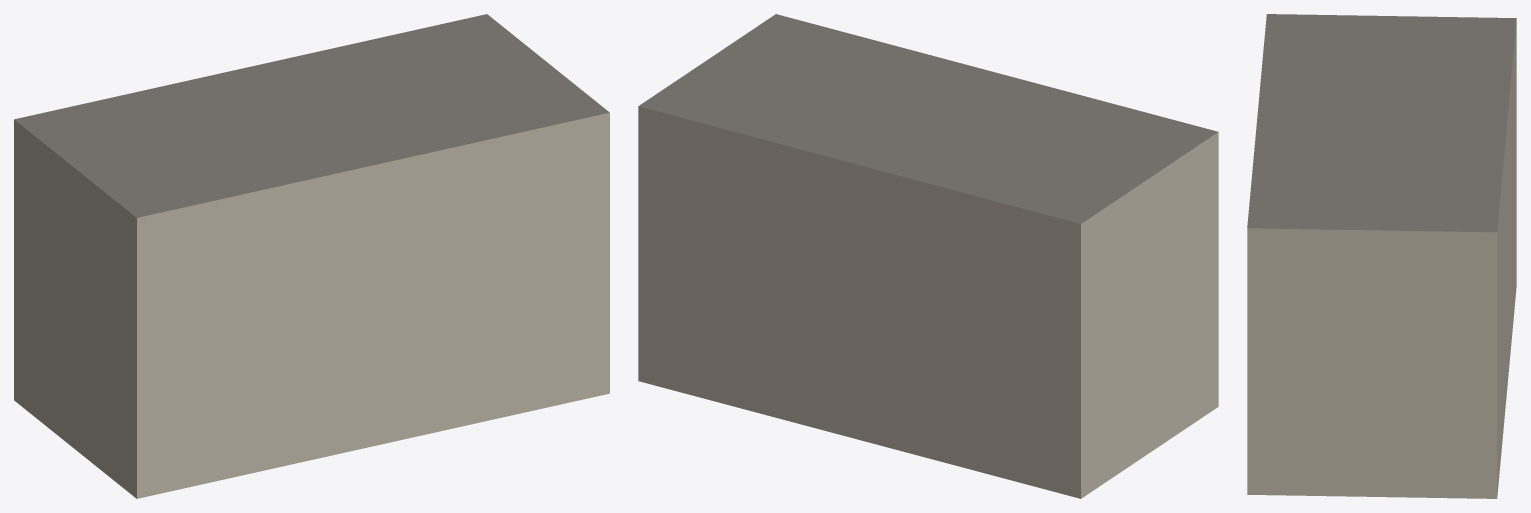
3 views of the same model, side by side, from view 1: azimuth 30°, elevation 25°; view 2: azimuth 150°, elevation 25°; view 3: azimuth 270°, elevation 25° (orthographic). The views are drawn at different scales.
Parts seen in each view (by area): view 1: HP-w1287261389; view 2: HP-w1287261389; view 3: HP-w1287261389.
Part boxes in pixels (bbox=[...]): HP-w1287261389: bbox=[14, 14, 609, 498]; HP-w1287261389: bbox=[638, 14, 1218, 498]; HP-w1287261389: bbox=[1247, 14, 1516, 498].
Size of the model in its own units: 31.63 by 18 by 16.5.
